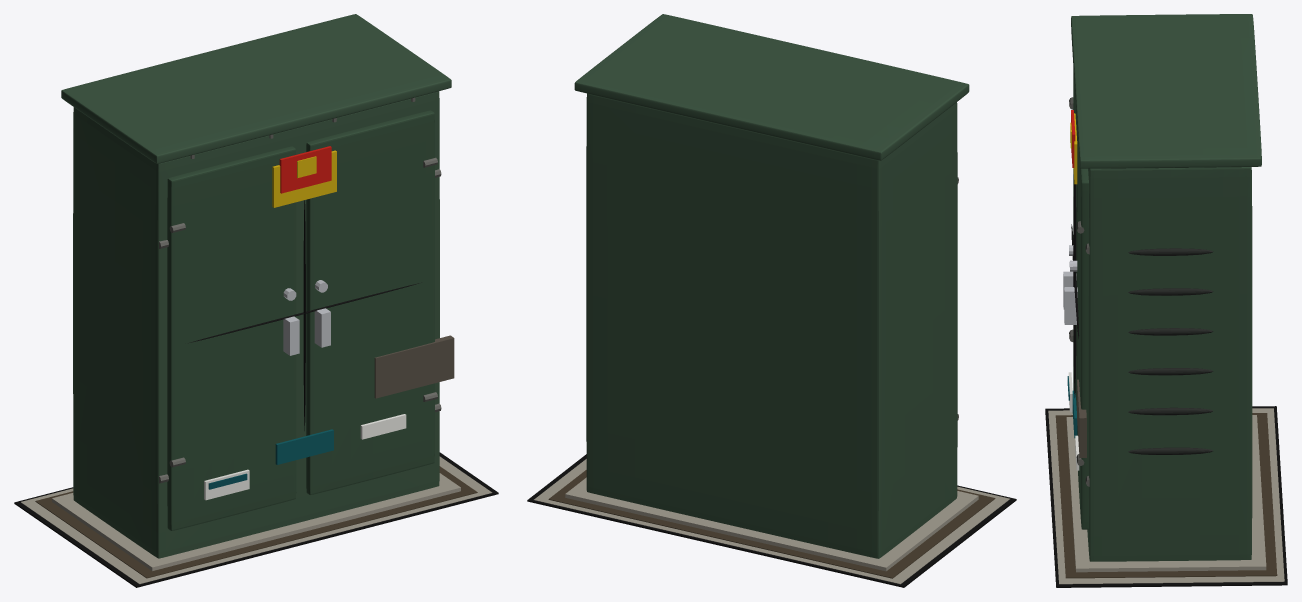
File: hm_prop_utility_cabinet_v2.obj
3 views of the same model, side by side, from view 1: azimuth 30°, elevation 25°; view 2: azimuth 150°, elevation 25°; view 3: azimuth 270°, elevation 25° (orthographic).
Parts seen in each view (by area): view 1: Cab_Body, Cab_Door_L, Cab_Door_R, Cab_Lip, Cab_Salt, hm_prop_utility_cabinet_v2_Dirt, hm_prop_utility_cabinet_v2_SaltRing, Cab_Scuff, hm_prop_utility_cabinet_v2_Shadow, hm_prop_utility_cabinet_v2_UtilWarn, Cab_Tel, Cab_Warn (+4 smaller); view 2: Cab_Body, Cab_Lip, Cab_Salt, hm_prop_utility_cabinet_v2_Dirt, hm_prop_utility_cabinet_v2_SaltRing, hm_prop_utility_cabinet_v2_Shadow; view 3: Cab_Body, Cab_Lip, hm_prop_utility_cabinet_v2_Dirt, Cab_Salt, hm_prop_utility_cabinet_v2_SaltRing, Cab_Door_R, hm_prop_utility_cabinet_v2_Shadow, Cab_Door_L, Cab_Vent_4, Cab_Vent_3, Cab_Vent_5, Cab_Vent_1 (+5 smaller).
Part boxes in pixels (left/top/right/bottom): Cab_Body: left=73, top=91, right=439, bottom=558; Cab_Door_L: left=167, top=146, right=296, bottom=530; Cab_Door_R: left=306, top=110, right=434, bottom=494; Cab_Lip: left=61, top=14, right=451, bottom=163; Cab_Salt: left=52, top=473, right=460, bottom=570; hm_prop_utility_cabinet_v2_Dirt: left=35, top=466, right=477, bottom=578; hm_prop_utility_cabinet_v2_SaltRing: left=21, top=456, right=492, bottom=584; Cab_Scuff: left=374, top=335, right=454, bottom=398; hm_prop_utility_cabinet_v2_Shadow: left=14, top=452, right=498, bottom=587; hm_prop_utility_cabinet_v2_UtilWarn: left=279, top=146, right=331, bottom=193; Cab_Tel: left=275, top=429, right=333, bottom=464; Cab_Warn: left=272, top=150, right=336, bottom=207; Cab_Body: left=586, top=93, right=957, bottom=558; Cab_Lip: left=574, top=14, right=969, bottom=160; Cab_Salt: left=565, top=477, right=978, bottom=571; hm_prop_utility_cabinet_v2_Dirt: left=548, top=470, right=995, bottom=578; hm_prop_utility_cabinet_v2_SaltRing: left=534, top=459, right=1009, bottom=584; hm_prop_utility_cabinet_v2_Shadow: left=527, top=454, right=1016, bottom=587; Cab_Body: left=1087, top=167, right=1252, bottom=561; Cab_Lip: left=1071, top=14, right=1261, bottom=168; hm_prop_utility_cabinet_v2_Dirt: left=1055, top=413, right=1277, bottom=578; Cab_Salt: left=1066, top=415, right=1266, bottom=572; hm_prop_utility_cabinet_v2_SaltRing: left=1048, top=408, right=1284, bottom=584; Cab_Door_R: left=1077, top=138, right=1088, bottom=529; hm_prop_utility_cabinet_v2_Shadow: left=1045, top=406, right=1287, bottom=587; Cab_Door_L: left=1073, top=69, right=1077, bottom=435; Cab_Vent_4: left=1128, top=288, right=1213, bottom=295; Cab_Vent_3: left=1128, top=328, right=1213, bottom=335; Cab_Vent_5: left=1128, top=248, right=1213, bottom=255; Cab_Vent_1: left=1128, top=407, right=1213, bottom=415.
Bounding box in the file's own units: 1.17 × 1.24 × 0.6624.
